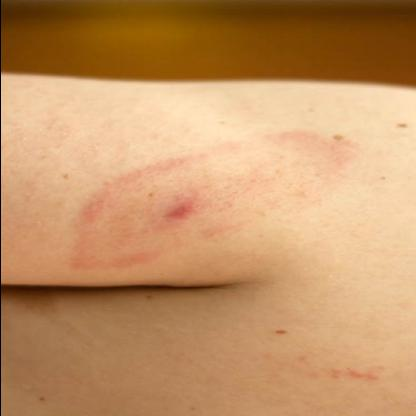Tick: (56, 130, 362, 274)
